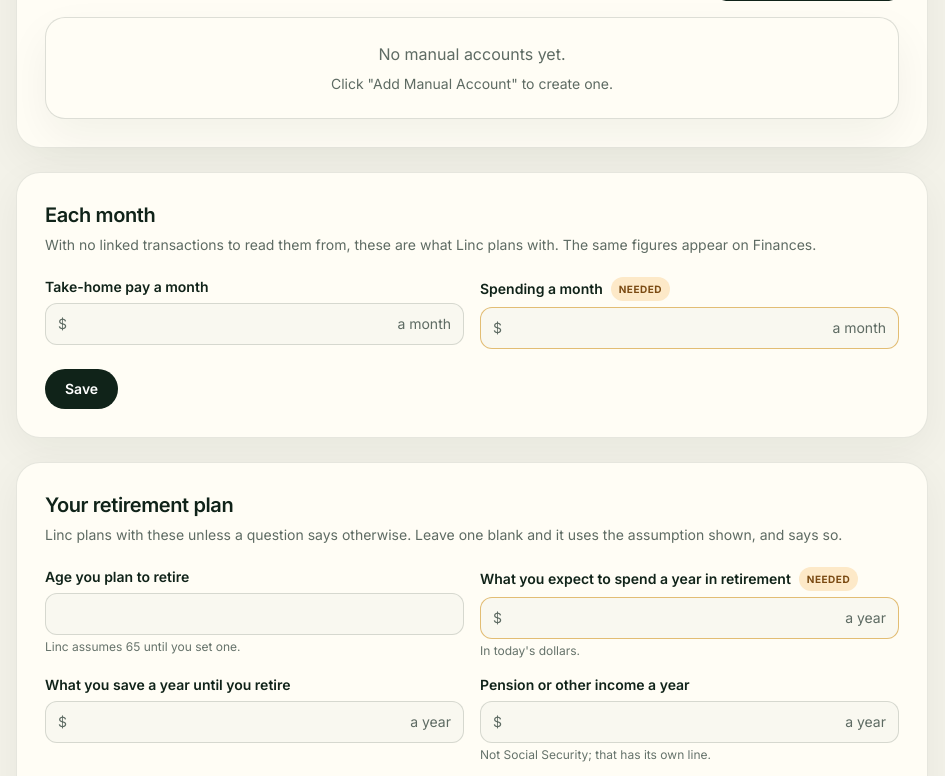
Test: Your numbers › does not clear Finances overrides when Save is clicked after overrides failed to load
(page scrolled)
Check: the field labelled "Take-home pay a month" is empty, box [71, 304, 389, 344]
Click the button "Save".
click(82, 389)  # box [45, 369, 118, 409]
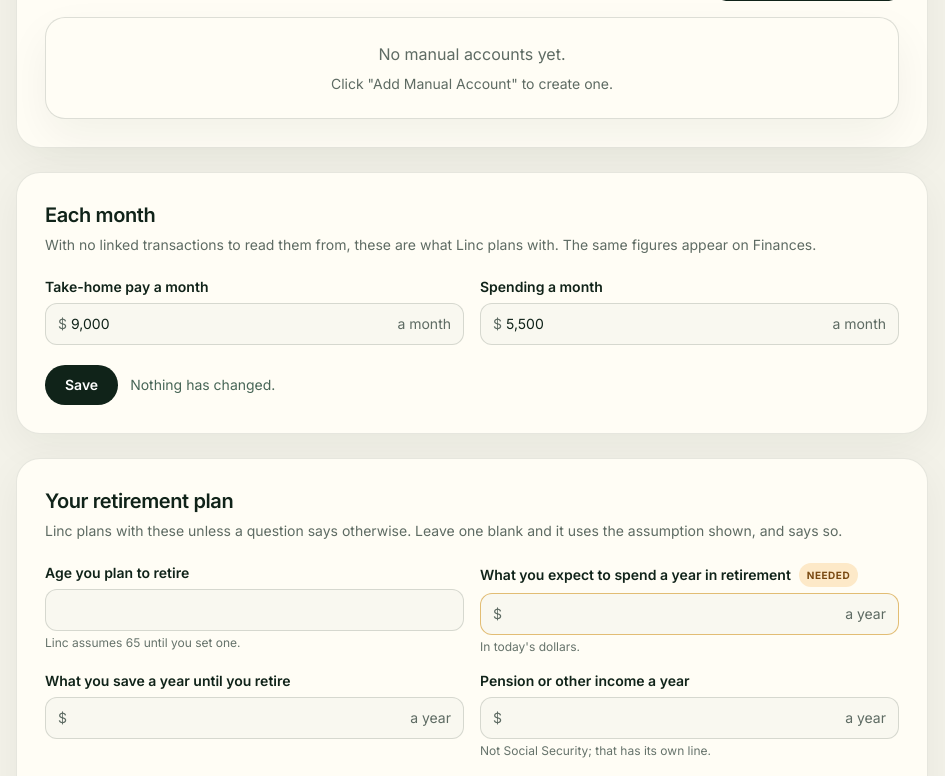
Check: the text "Nothing has changed." is shown, box [130, 375, 275, 395]
Check: the field labelled "Take-home pay a month" holds "9,000", box [71, 304, 389, 344]
